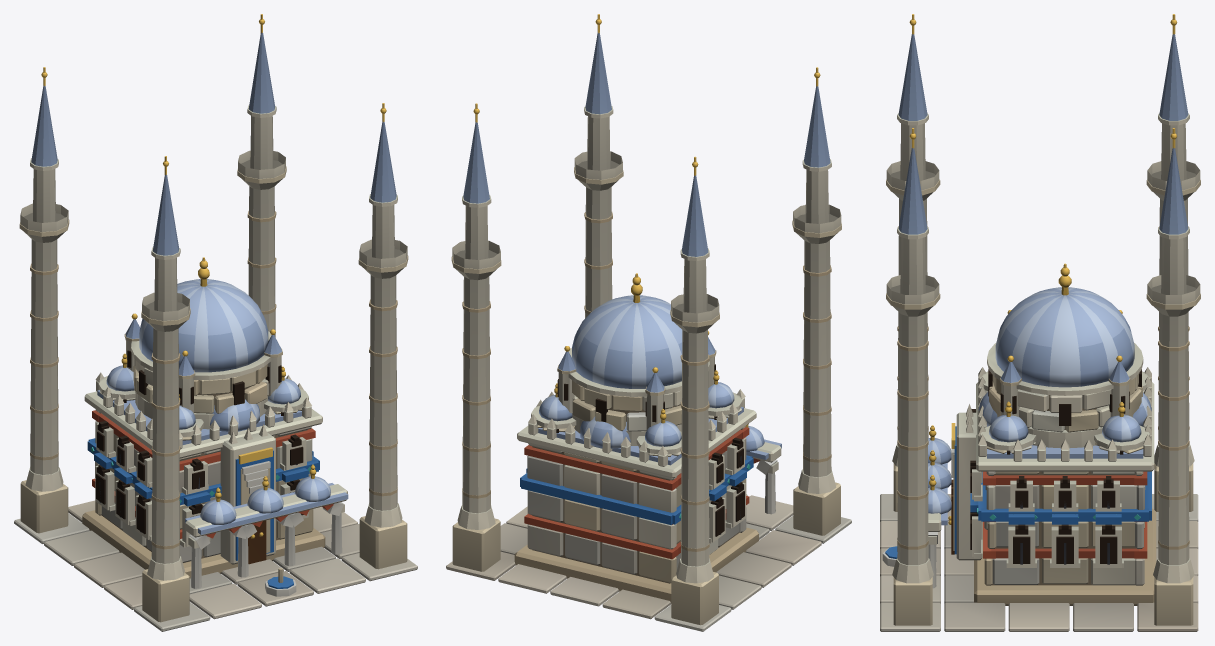
The model's file is b_mosque.glb.
3 views of the same model, side by side, from view 1: azimuth 30°, elevation 25°; view 2: azimuth 150°, elevation 25°; view 3: azimuth 270°, elevation 25° (orthographic). The views are drawn at different scales.
Visible parts, largest first — view 1: b_mosque, M3, M2, M1, M4; view 2: b_mosque, M4, M3, M1, M2; view 3: b_mosque, M4, M2, M3, M1.
Boxes of the visible parts, x1=… form: b_mosque: x1=14, y1=257, x2=417, y2=631; M3: x1=19, y1=67, x2=69, y2=533; M2: x1=358, y1=103, x2=408, y2=569; M1: x1=141, y1=156, x2=190, y2=622; M4: x1=237, y1=14, x2=286, y2=337; b_mosque: x1=446, y1=273, x2=851, y2=631; M4: x1=451, y1=103, x2=501, y2=571; M3: x1=670, y1=156, x2=719, y2=625; M1: x1=792, y1=67, x2=841, y2=535; M2: x1=574, y1=14, x2=623, y2=318; b_mosque: x1=880, y1=263, x2=1198, y2=631; M4: x1=1146, y1=128, x2=1200, y2=625; M2: x1=886, y1=128, x2=940, y2=625; M3: x1=1146, y1=14, x2=1200, y2=511; M1: x1=886, y1=14, x2=940, y2=511.
Bounding box in the file's own units: 0.7387 × 1.25 × 0.7384.
